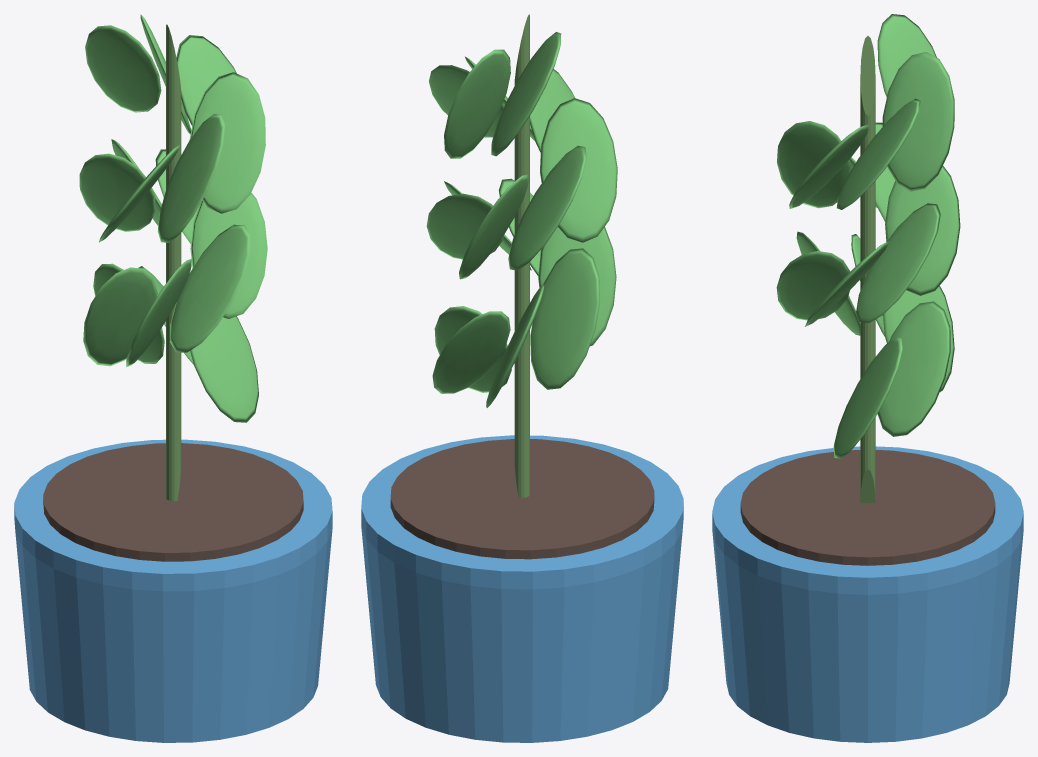
3 renders of one model, left to right at view 1: azimuth 30°, elevation 25°; view 2: azimuth 150°, elevation 25°; view 3: azimuth 270°, elevation 25°, orthographic. The views are drawn at different scales.
Bounding box in the file's own units: 0.33 × 0.7538 × 0.33.
